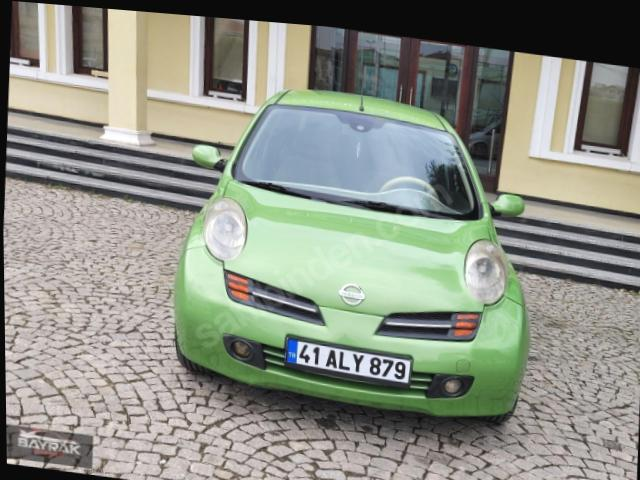plaka: (285, 338, 412, 387)
